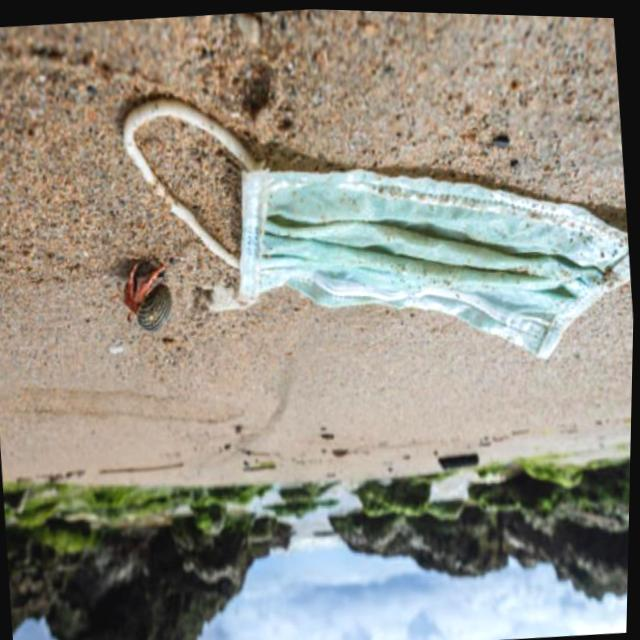Mask: (113, 53, 639, 399)
